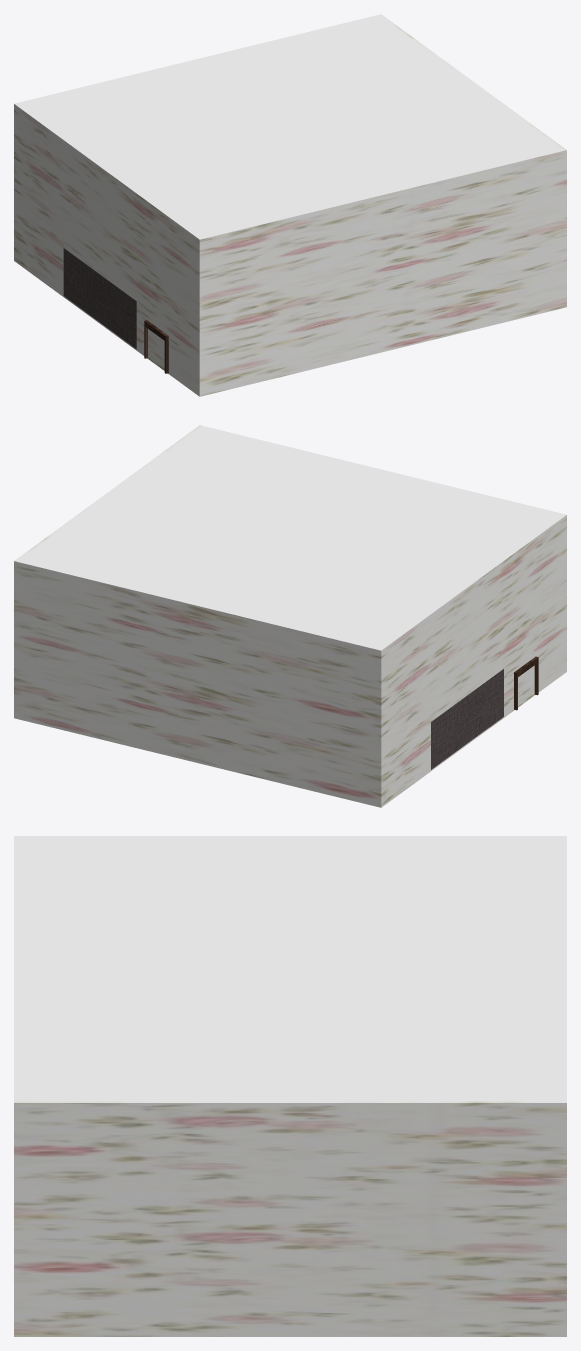
Rendered from stanzaLowPolyParent.obj.
3 views of the same model, one above another, from view 1: azimuth 30°, elevation 25°; view 2: azimuth 150°, elevation 25°; view 3: azimuth 270°, elevation 25° (orthographic). The views are drawn at different scales.
Parts seen in each view (by area): view 1: Cube_Cube.001, Cube.002_Cube.003, Cube.004_Cube.008; view 2: Cube_Cube.001, Cube.002_Cube.003, Cube.004_Cube.008; view 3: Cube_Cube.001.
Boxes of the visible parts, x1,y1,x2,y2 form: Cube_Cube.001: (14,14,566,396); Cube.002_Cube.003: (63,248,136,348); Cube.004_Cube.008: (144,320,168,373); Cube_Cube.001: (14,425,566,807); Cube.002_Cube.003: (431,669,503,769); Cube.004_Cube.008: (514,656,538,710); Cube_Cube.001: (14,836,566,1336).
Bounding box in the file's own units: 72.02 × 29.23 × 62.63.
